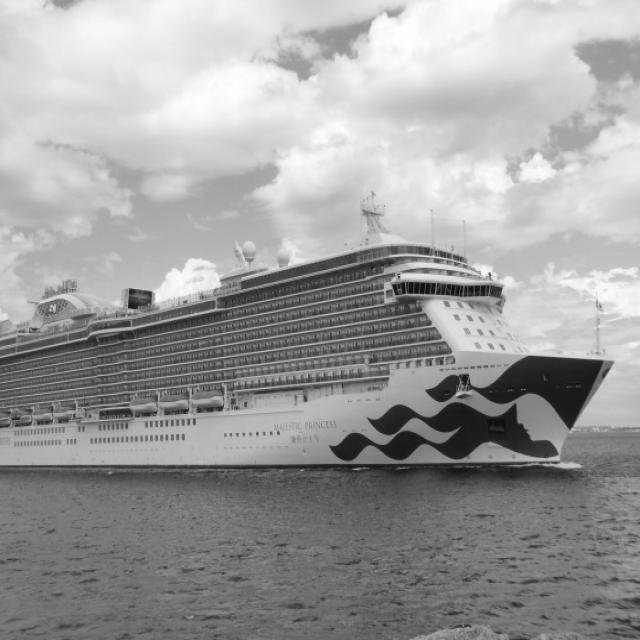cruises: (1, 189, 619, 482)
